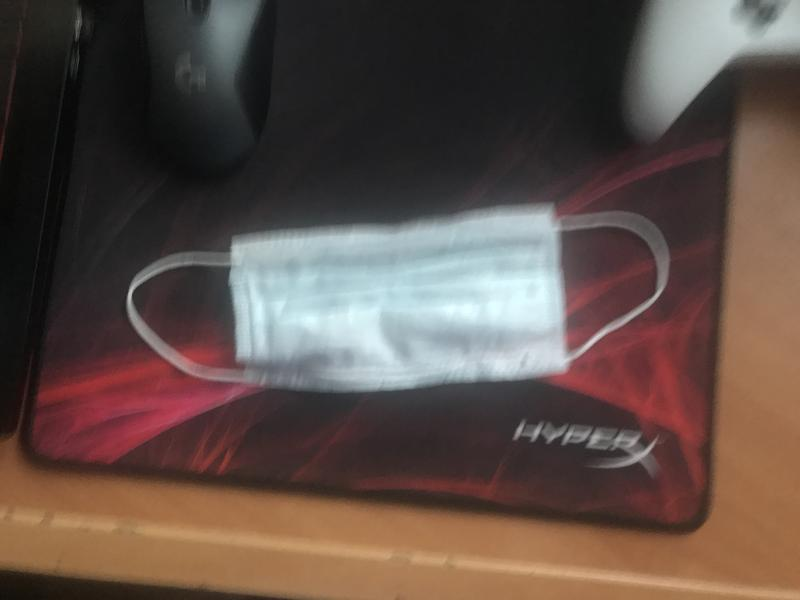medical_mask: (128, 210, 667, 392)
